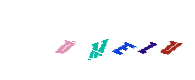E: (58, 0, 138, 80)
L: (93, 0, 173, 80)
M: (56, 0, 136, 80)
O: (50, 0, 130, 80)
U: (114, 0, 194, 80)
